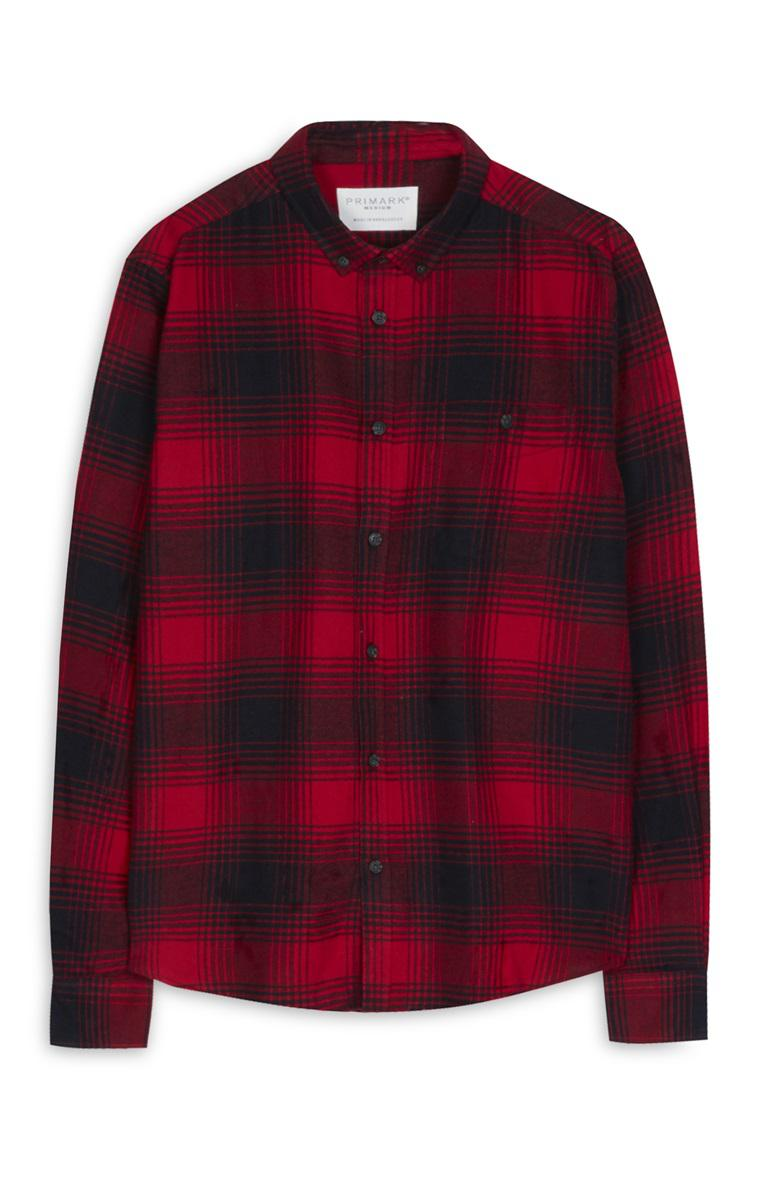teeshirt: (31, 113, 718, 1076)
